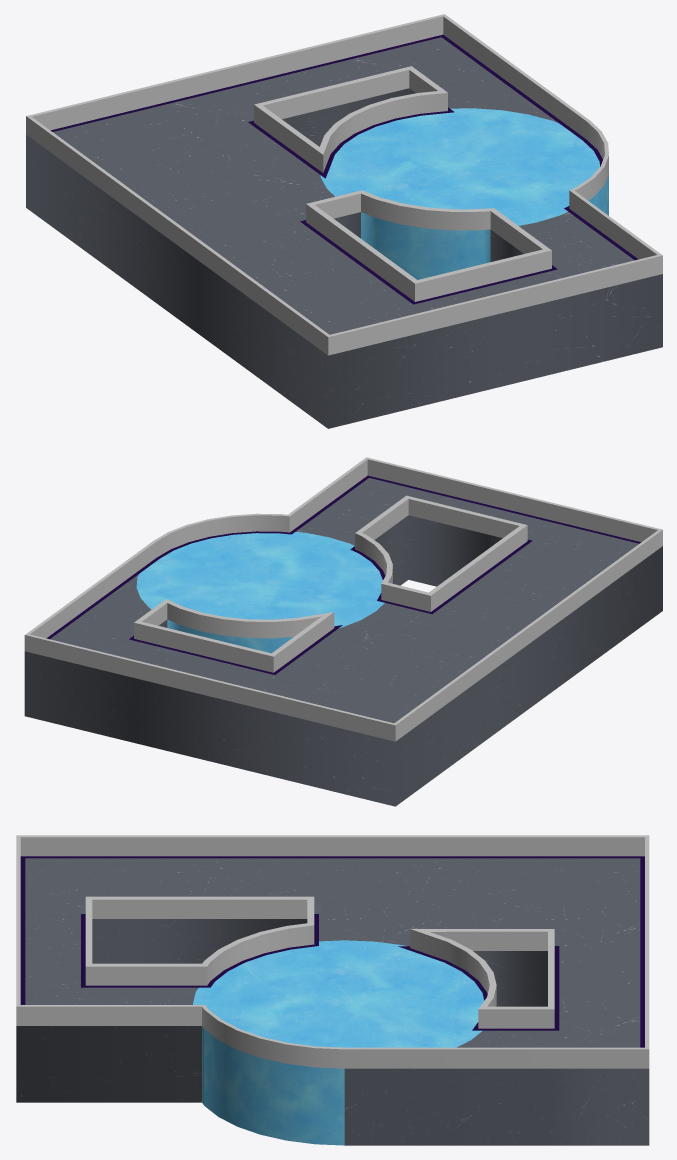
File: Battle_Stage 20.fbx
3 renders of one model, top to bottom at view 1: azimuth 30°, elevation 25°; view 2: azimuth 150°, elevation 25°; view 3: azimuth 270°, elevation 25°, orthographic. The views are drawn at different scales.
Parts seen in each view (by area): view 1: Cylinder_055, Cylinder_055.001, Cylinder_055.002; view 2: Cylinder_055, Cylinder_055.001, Cylinder_055.002; view 3: Cylinder_055, Cylinder_055.001, Cylinder_055.002.
Part boxes in pixels (left/top/right/bottom): Cylinder_055: left=26, top=37, right=662, bottom=428; Cylinder_055.001: left=26, top=14, right=662, bottom=355; Cylinder_055.002: left=50, top=34, right=638, bottom=304; Cylinder_055: left=24, top=478, right=662, bottom=806; Cylinder_055.001: left=24, top=457, right=662, bottom=741; Cylinder_055.002: left=46, top=475, right=640, bottom=674; Cylinder_055: left=16, top=858, right=649, bottom=1145; Cylinder_055.001: left=16, top=835, right=649, bottom=1068; Cylinder_055.002: left=20, top=856, right=644, bottom=1047.
Size of the model in its own units: 6230 by 1257 by 7691.
